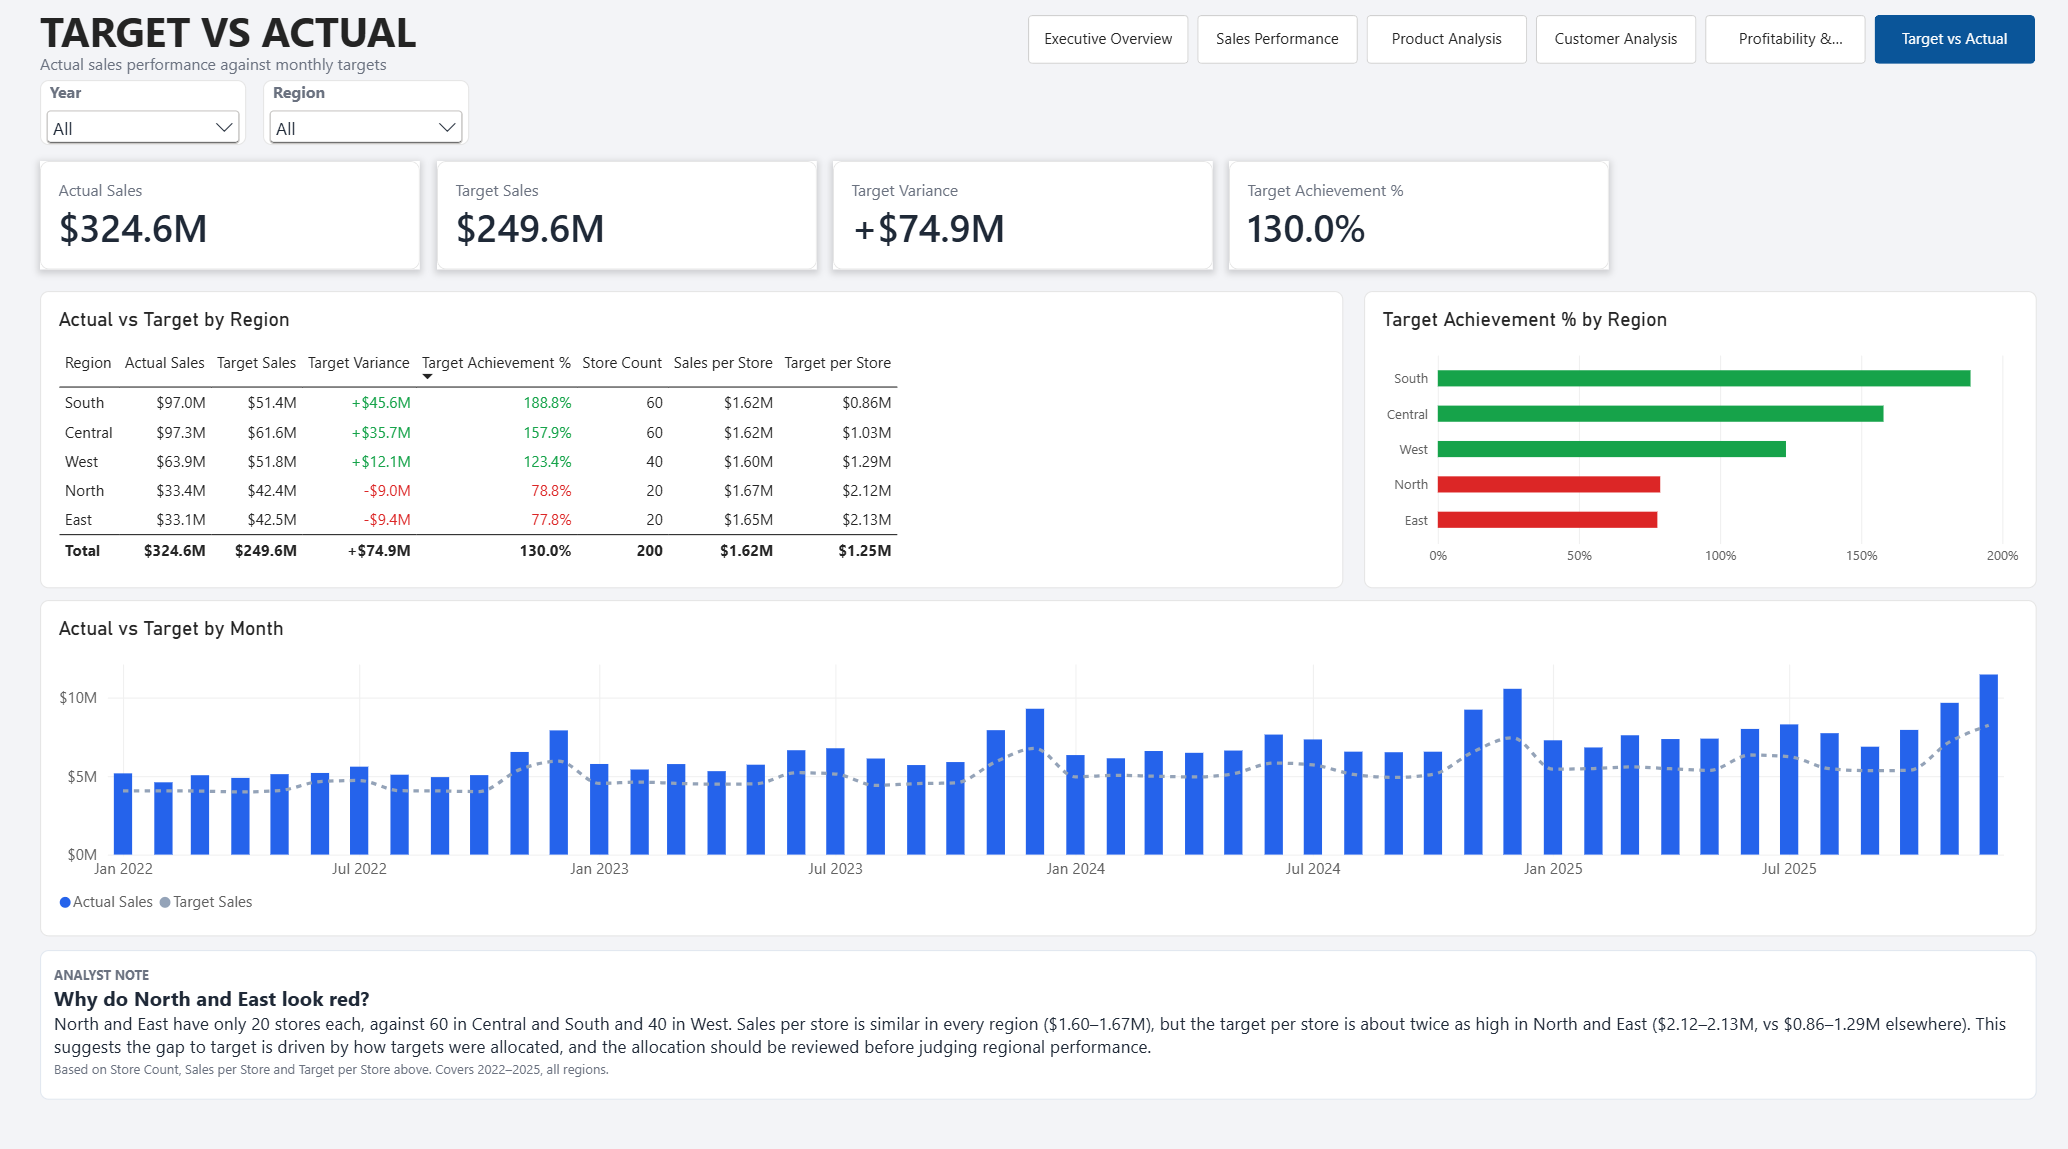

What the dashboard file says about the page in this screenshot:
{"tool":"powerbi","page":{"name":"Target vs Actual","canvas":[1920,1080],"ordinal":5},"visuals":[{"type":"lineClusteredColumnComboChart","title":"Actual vs Target by Month","fields":{"Category":["DimDate.YearMonth"],"Y":["_Measures.Actual Sales"],"Y2":["_Measures.Target Sales"]},"box":[39.6,559.4,1840.2,309.6],"z":0},{"type":"barChart","title":"Target Achievement % by Region","fields":{"Category":["DimRegion.Region"],"Y":["_Measures.Target Achievement %"]},"box":[1259.7,274.6,620.2,273.7],"z":1000},{"type":"tableEx","title":"Actual vs Target by Region","fields":{"Values":["DimRegion.Region","_Measures.Actual Sales","_Measures.Target Sales","_Measures.Target Variance","_Measures.Target Achievement %","_Measures.Store Count","_Measures.Sales per Store","_Measures.Target per Store"]},"box":[39.6,274.6,1200.7,273.7],"z":2000},{"type":"slicer","fields":{"Values":["DimDate.Year"]},"box":[40,80,190,60],"z":3000},{"type":"slicer","fields":{"Values":["DimRegion.Region"]},"box":[245,80,190,60],"z":4000},{"type":"pageNavigator","box":[950,20,930,45.2],"z":5000},{"type":"textbox","box":[40,10,700,50],"z":6000},{"type":"cardVisual","fields":{"Data":["_Measures.Actual Sales"]},"box":[40,155,350,100],"z":7000},{"type":"cardVisual","fields":{"Data":["_Measures.Target Sales"]},"box":[405,155,350,100],"z":8000},{"type":"cardVisual","fields":{"Data":["_Measures.Target Variance"]},"box":[770,155,350,100],"z":9000},{"type":"cardVisual","fields":{"Data":["_Measures.Target Achievement %"]},"box":[1135,155.1,350,100],"z":10000},{"type":"textbox","box":[40,55,800,20],"z":11000},{"type":"textbox","box":[39.6,882,1840.2,138.2],"z":12000}]}

Visuals, with their boxes in screenshot pixels (x1, y1, x2, y2), scaled from the page's 1920x1080 canvas onto the 2068x1149 screenshot:
"Actual vs Target by Month" lineClusteredColumnComboChart: 43:595:2025:925
"Target Achievement % by Region" barChart: 1357:292:2025:583
"Actual vs Target by Region" tableEx: 43:292:1336:583
slicer - DimDate.Year: 43:85:248:149
slicer - DimRegion.Region: 264:85:469:149
pageNavigator: 1023:21:2025:69
textbox: 43:11:797:64
cardVisual - _Measures.Actual Sales: 43:165:420:271
cardVisual - _Measures.Target Sales: 436:165:813:271
cardVisual - _Measures.Target Variance: 829:165:1206:271
cardVisual - _Measures.Target Achievement %: 1222:165:1599:271
textbox: 43:59:905:80
textbox: 43:938:2025:1085
